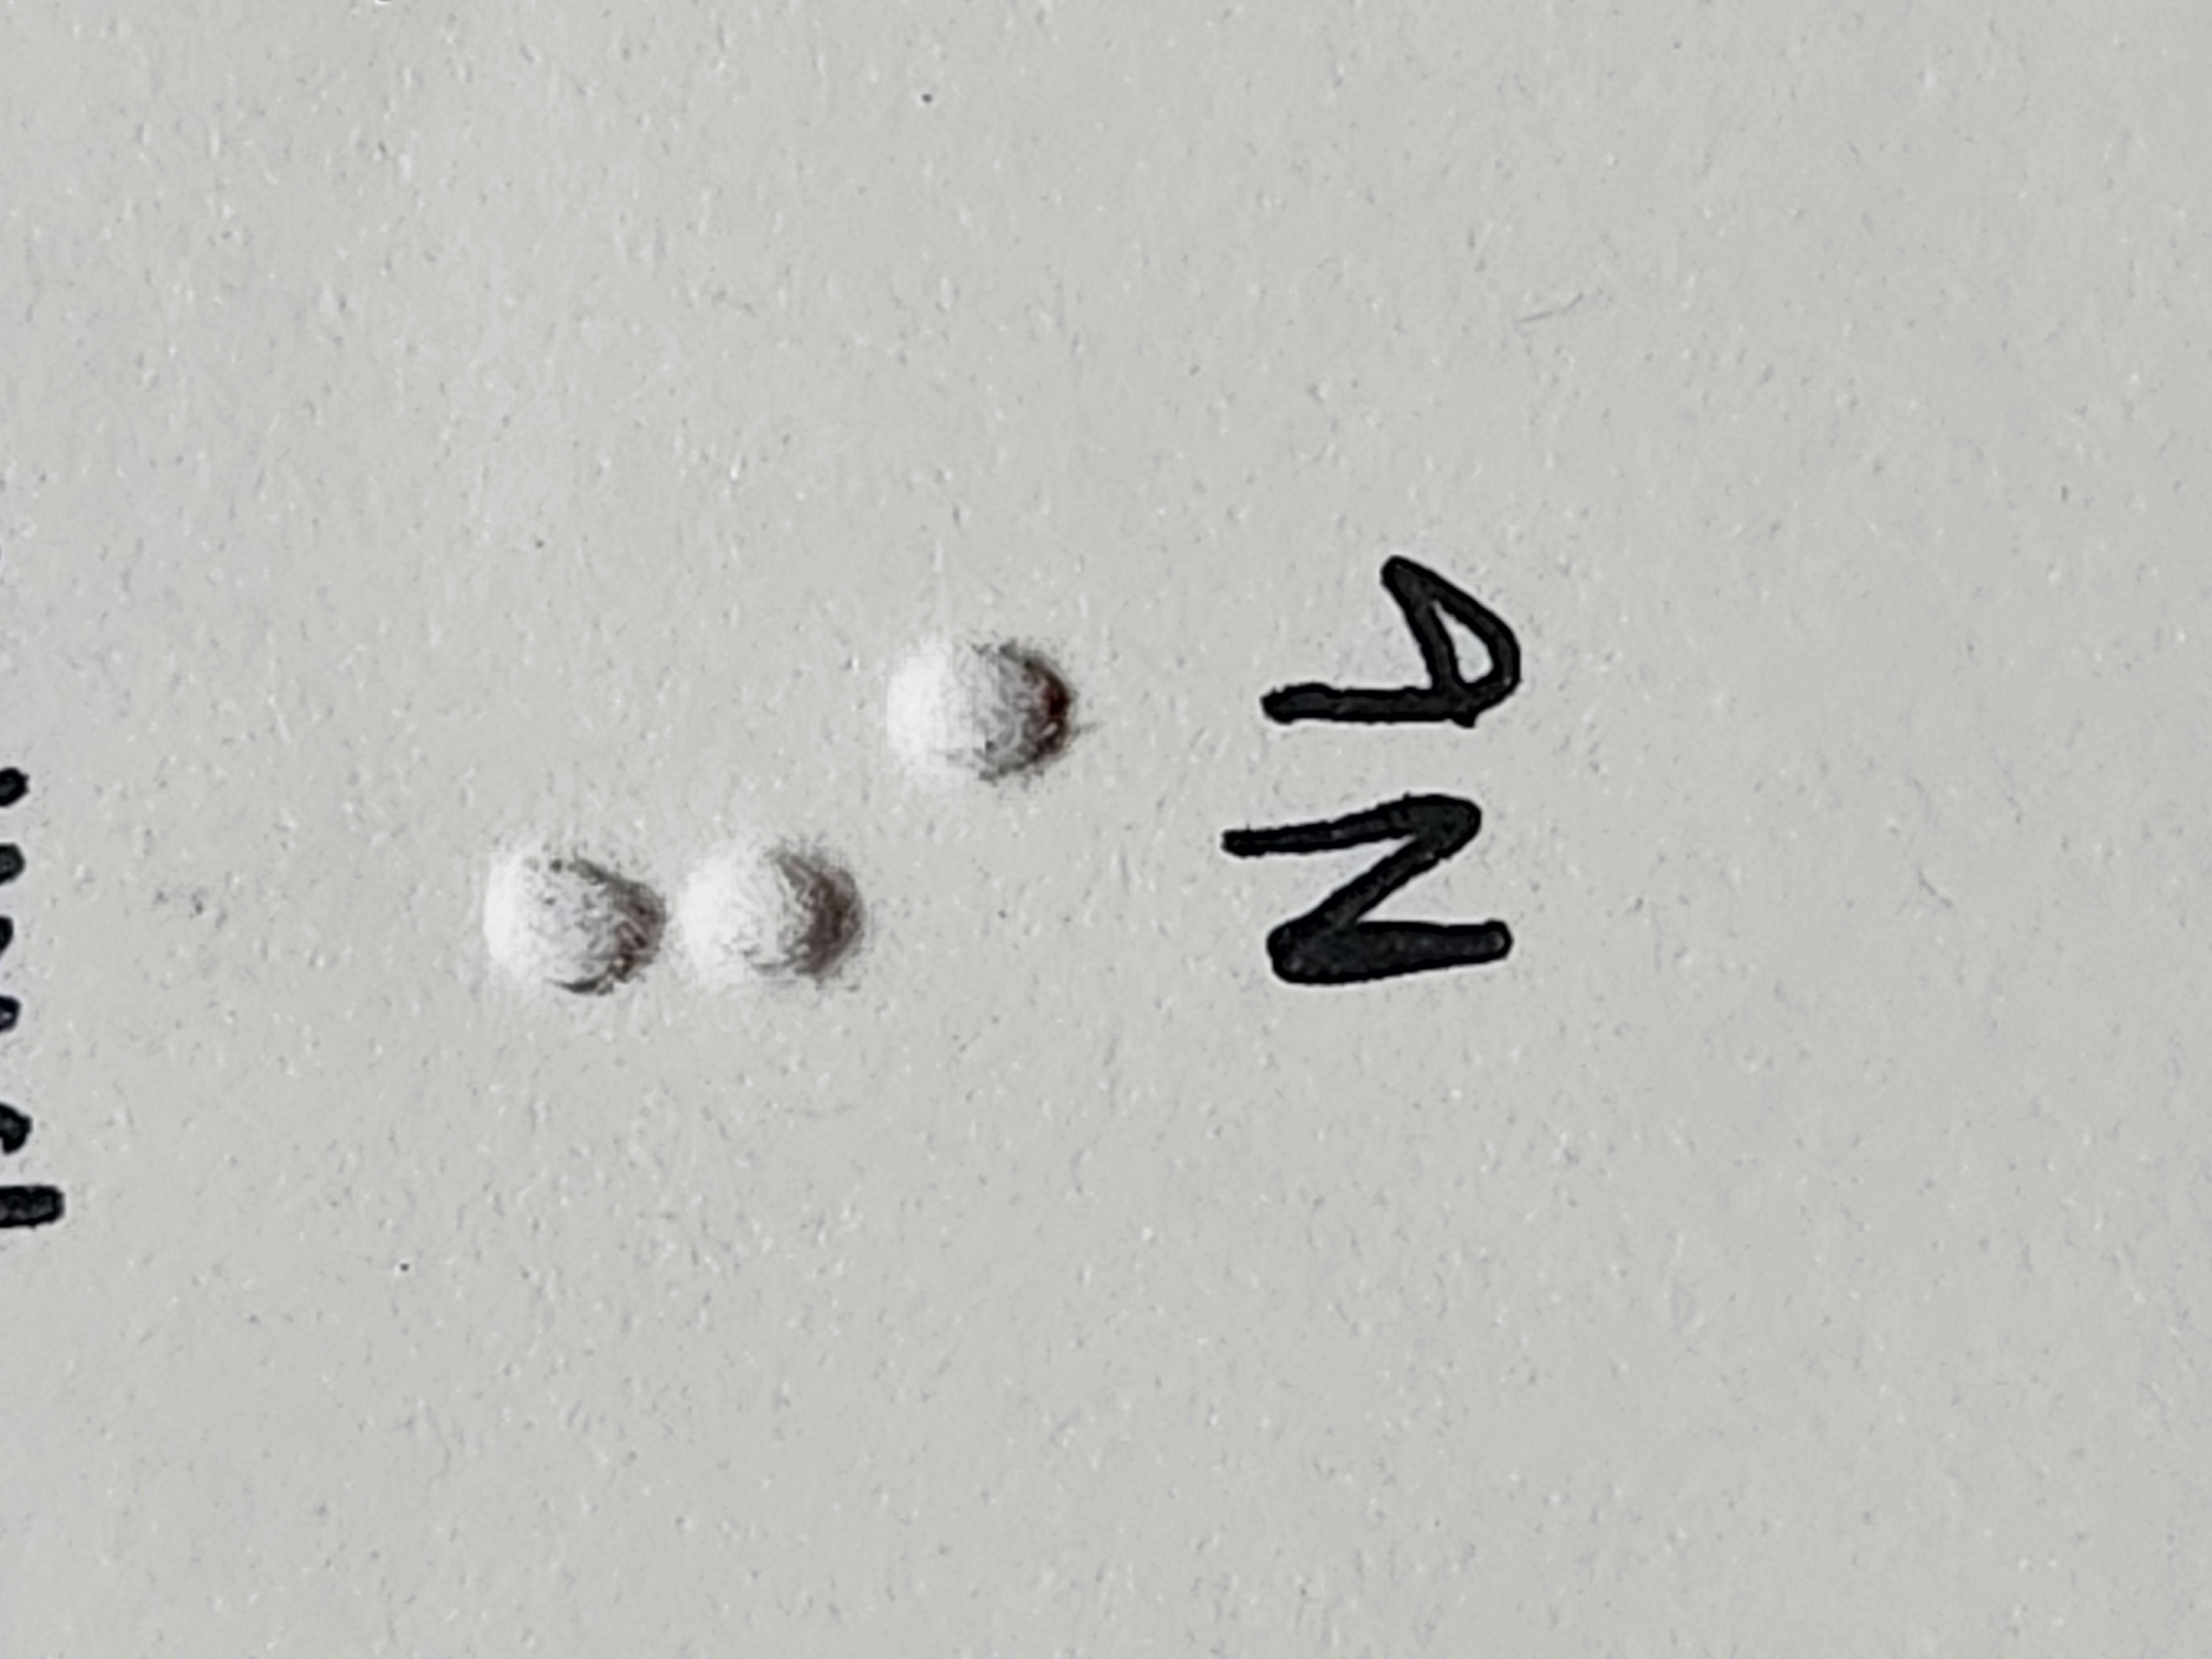one_cell_non_alphabet_ng: (864, 362, 1357, 798)
